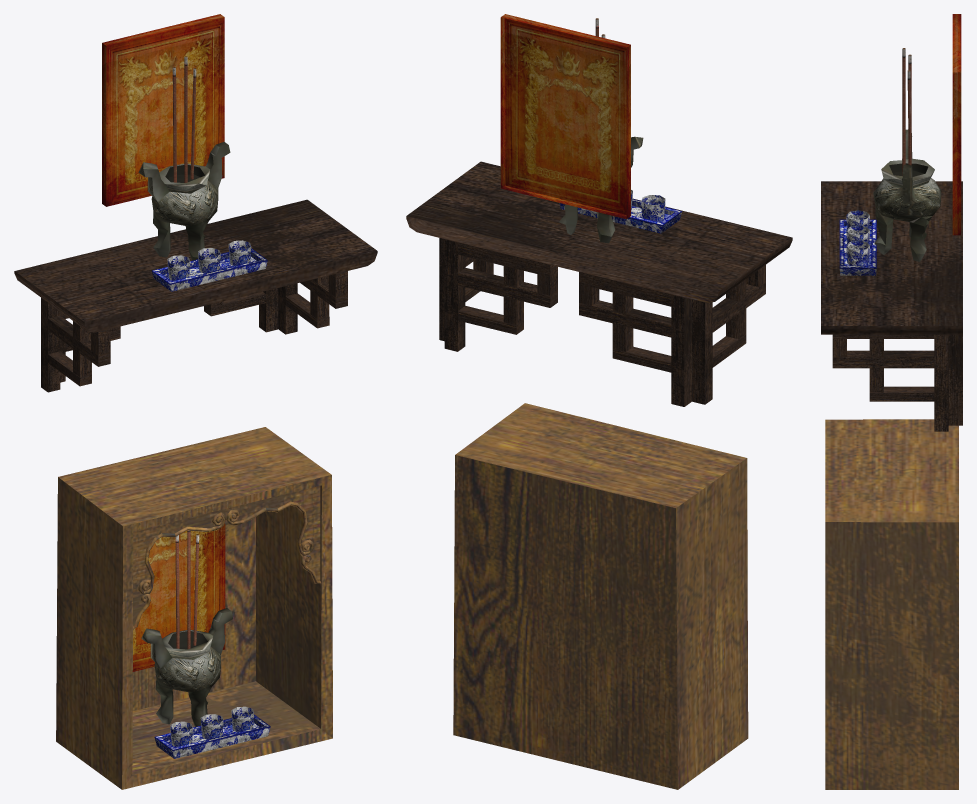
File: Vietnamese altar.fbx
3 renders of one model, left to right at view 1: azimuth 30°, elevation 25°; view 2: azimuth 150°, elevation 25°; view 3: azimuth 270°, elevation 25°, orthographic. The views are drawn at different scales.
Visible parts, largest first — view 1: alter 2, alter 1; view 2: alter 2, alter 1; view 3: alter 2, alter 1.
Part boxes in pixels (left/top/right/bottom): alter 2: left=56, top=427, right=332, bottom=789; alter 1: left=14, top=14, right=377, bottom=392; alter 2: left=453, top=403, right=748, bottom=789; alter 1: left=406, top=14, right=792, bottom=406; alter 2: left=825, top=419, right=958, bottom=789; alter 1: left=821, top=14, right=962, bottom=431.
Bounding box in the file's own units: 265 × 593 × 110.
Materials: 1 (1 with a texture image).
